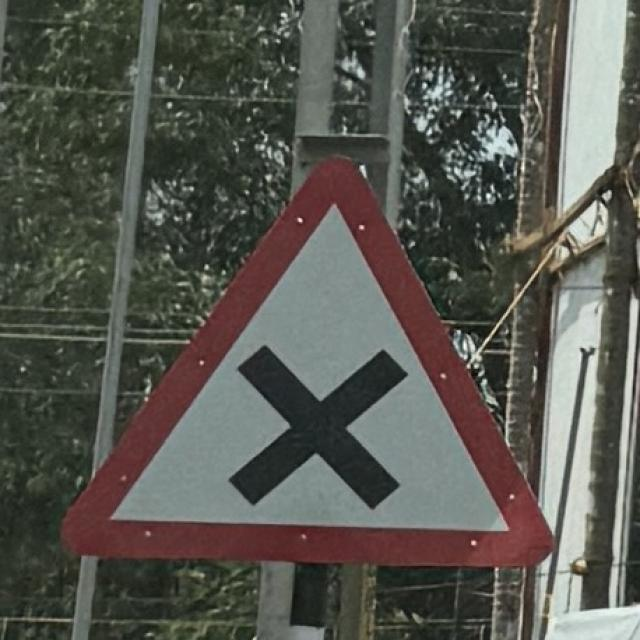CROSS_ROAD: (47, 142, 567, 580)
